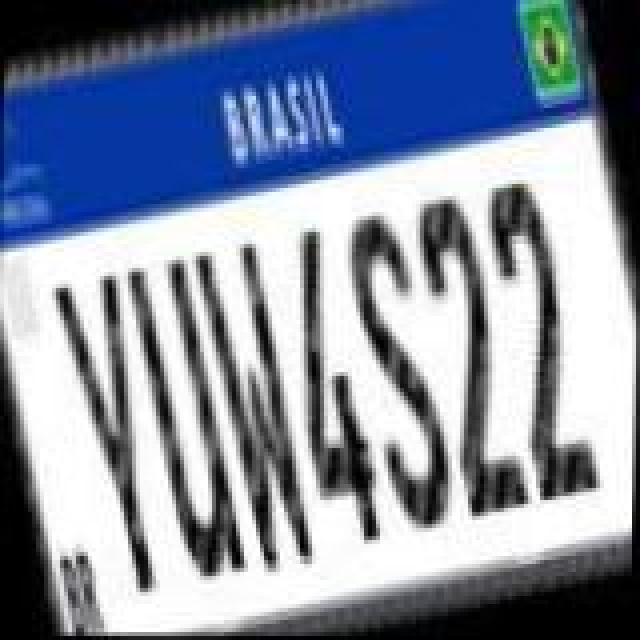2: (400, 186, 540, 526), (472, 174, 612, 510)
4: (254, 218, 394, 558)
S: (332, 204, 472, 544)
U: (120, 252, 256, 588)
W: (184, 236, 336, 588)
Y: (46, 266, 186, 602)
